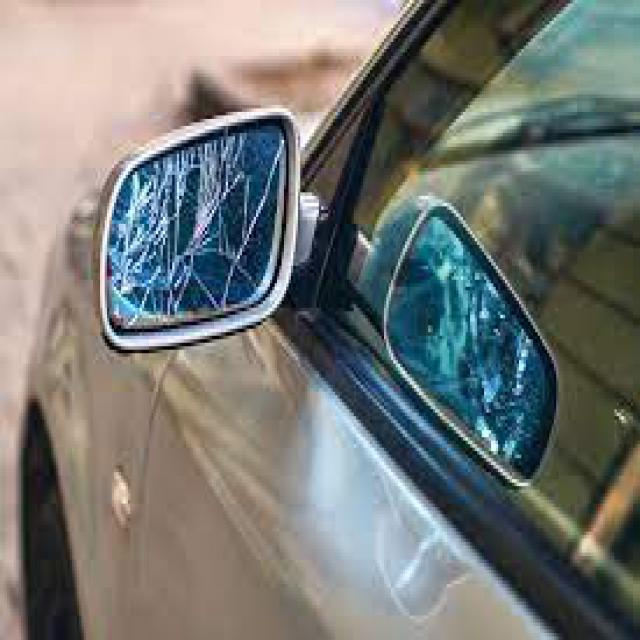Sidemirror-Damage: (86, 101, 332, 370)
